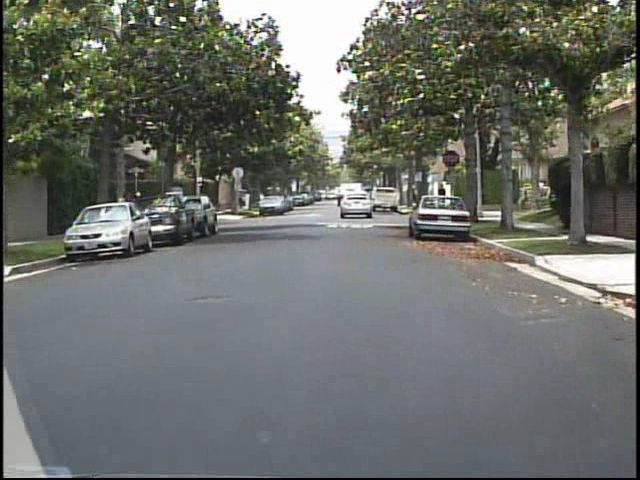person: (117, 190, 134, 231), (433, 180, 450, 213)
